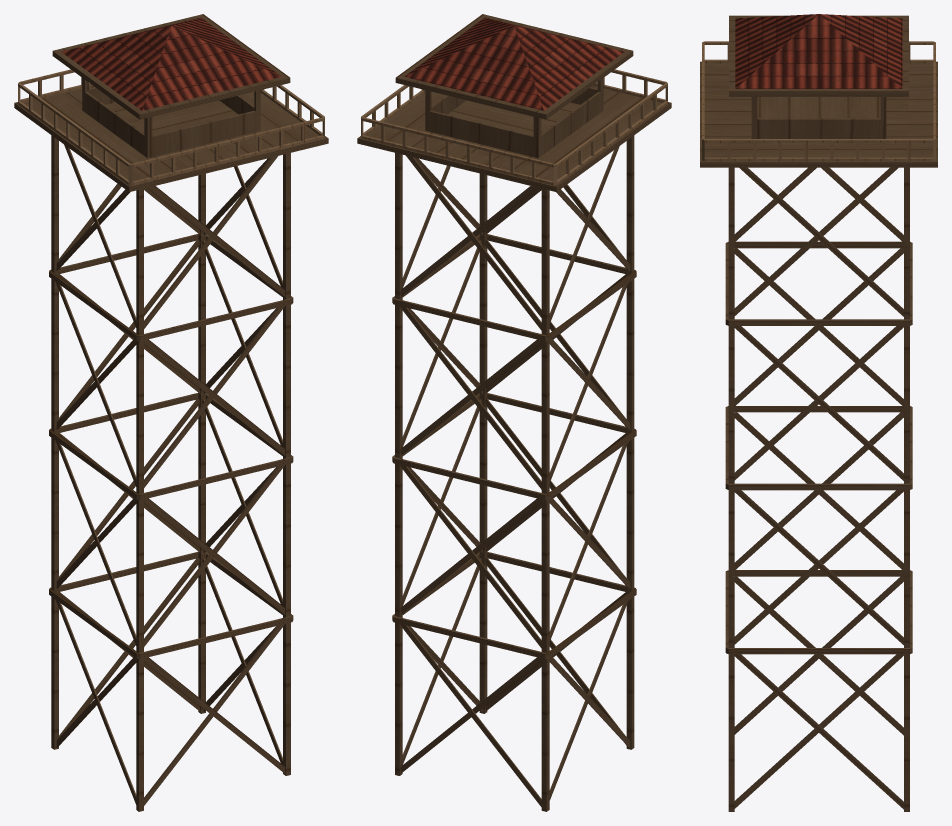
File: Tower.fbx
3 views of the same model, side by side, from view 1: azimuth 30°, elevation 25°; view 2: azimuth 150°, elevation 25°; view 3: azimuth 270°, elevation 25° (orthographic). The views are drawn at different scales.
Visible parts, largest first — view 1: WatchTower; view 2: WatchTower; view 3: WatchTower.
Part boxes in pixels (x1,y1,x2,y2): WatchTower: [14, 14, 328, 811]; WatchTower: [357, 14, 671, 811]; WatchTower: [700, 14, 937, 811].
Size of what is drawn, in the model's own units: 814 by 2870 by 814.
Materials: 3 (3 with a texture image).
